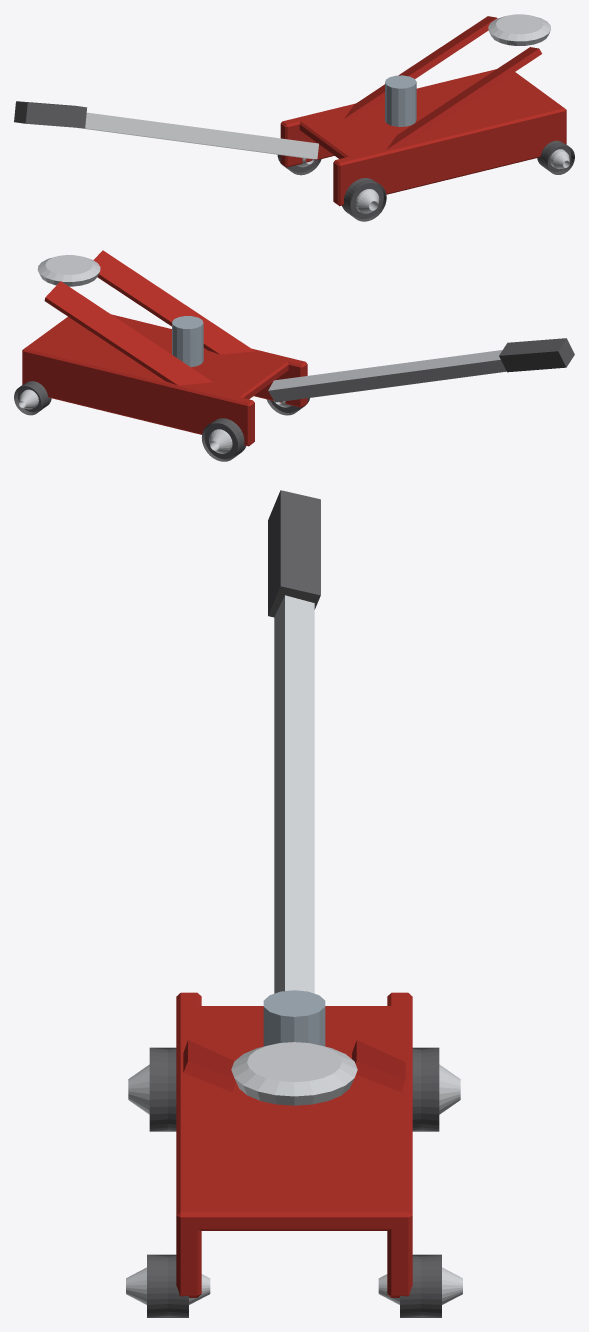
File: macaco_jacare.glb
3 views of the same model, one above another, from view 1: azimuth 30°, elevation 25°; view 2: azimuth 150°, elevation 25°; view 3: azimuth 270°, elevation 25° (orthographic). The views are drawn at different scales.
Visible parts, largest first — view 1: macaco_jacare_tinta_vermelha, macaco_jacare_aco, macaco_jacare_borracha, macaco_jacare_aco_pintado; view 2: macaco_jacare_tinta_vermelha, macaco_jacare_aco, macaco_jacare_borracha, macaco_jacare_aco_pintado; view 3: macaco_jacare_tinta_vermelha, macaco_jacare_aco, macaco_jacare_borracha, macaco_jacare_aco_pintado.
Boxes of the visible parts, x1,y1,x2,y2 form: macaco_jacare_tinta_vermelha: (280, 16, 566, 206); macaco_jacare_aco: (76, 14, 569, 213); macaco_jacare_borracha: (14, 101, 574, 221); macaco_jacare_aco_pintado: (385, 75, 416, 126); macaco_jacare_tinta_vermelha: (22, 250, 307, 446); macaco_jacare_aco: (19, 255, 506, 453); macaco_jacare_borracha: (14, 338, 574, 461); macaco_jacare_aco_pintado: (172, 316, 203, 367); macaco_jacare_tinta_vermelha: (176, 992, 412, 1297); macaco_jacare_aco: (126, 595, 462, 1304); macaco_jacare_borracha: (147, 490, 441, 1317); macaco_jacare_aco_pintado: (263, 990, 325, 1046).
Size of the model in its own units: 1.16 by 0.3539 by 0.32.
